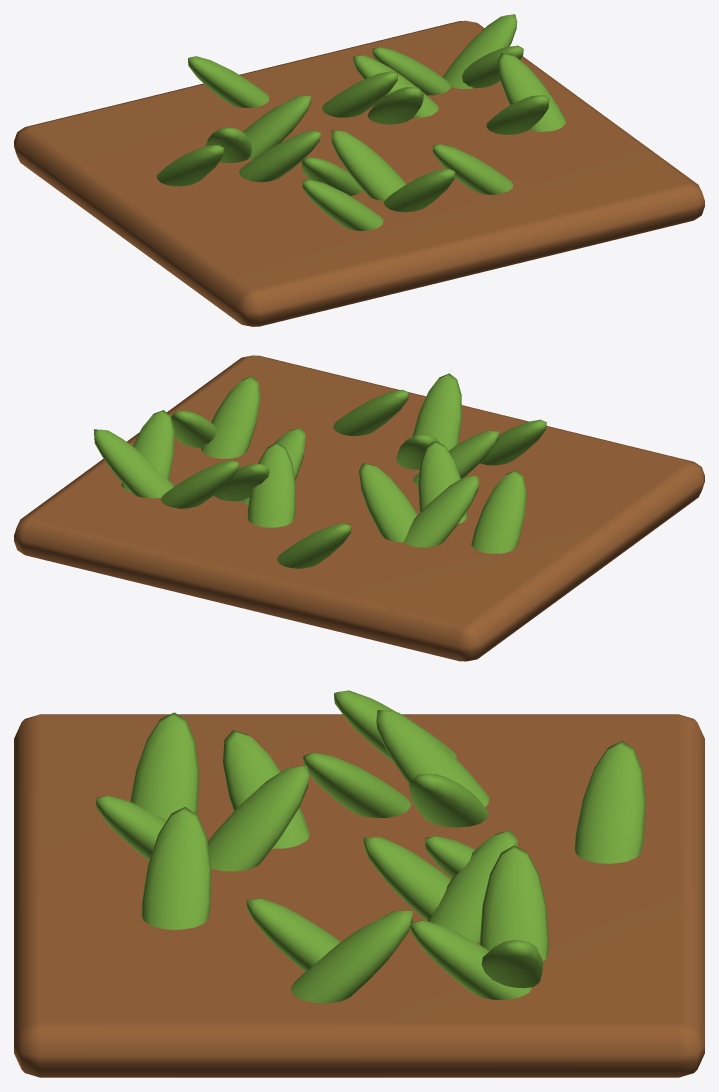
The model's file is NJD-19.glb.
The picture shows the model from 3 angles, top to bottom: view 1: azimuth 30°, elevation 25°; view 2: azimuth 150°, elevation 25°; view 3: azimuth 270°, elevation 25°; orthographic projection. The views are drawn at different scales.
Parts seen in each view (by area): view 1: garden bed, leaf.008, leaf.005, leaf.004, leaf.009, leaf.013, leaf.012, leaf, leaf.007, leaf.017, leaf.006, leaf.002 (+7 smaller); view 2: garden bed, leaf.002, leaf.017, leaf.003, leaf.016, leaf.012, leaf.007, leaf.006, leaf.014, leaf.009, leaf, leaf.011 (+7 smaller); view 3: garden bed, leaf, leaf.004, leaf.008, leaf.014, leaf.005, leaf.013, leaf.016, leaf.001, leaf.009, leaf.011, leaf.015 (+7 smaller).
Part boxes in pixels (x1=…): garden bed: x1=14, y1=20, x2=704, y2=326; leaf.008: x1=331, y1=130, x2=406, y2=200; leaf.005: x1=497, y1=53, x2=565, y2=131; leaf.004: x1=188, y1=56, x2=269, y2=107; leaf.009: x1=239, y1=130, x2=320, y2=182; leaf.013: x1=302, y1=179, x2=383, y2=230; leaf.012: x1=243, y1=95, x2=311, y2=159; leaf: x1=432, y1=144, x2=512, y2=194; leaf.007: x1=442, y1=14, x2=517, y2=88; leaf.017: x1=322, y1=71, x2=397, y2=117; leaf.006: x1=383, y1=168, x2=455, y2=212; leaf.002: x1=157, y1=144, x2=224, y2=186; garden bed: x1=14, y1=355, x2=704, y2=661; leaf.002: x1=471, y1=470, x2=526, y2=553; leaf.017: x1=247, y1=442, x2=295, y2=527; leaf.003: x1=201, y1=376, x2=260, y2=458; leaf.016: x1=403, y1=475, x2=478, y2=547; leaf.012: x1=359, y1=463, x2=417, y2=542; leaf.007: x1=93, y1=429, x2=174, y2=498; leaf.006: x1=412, y1=373, x2=461, y2=450; leaf.014: x1=161, y1=460, x2=239, y2=508; leaf.009: x1=418, y1=441, x2=467, y2=523; leaf: x1=333, y1=389, x2=408, y2=435; leaf.011: x1=121, y1=410, x2=174, y2=491; garden bed: x1=14, y1=714, x2=704, y2=1077; leaf: x1=141, y1=807, x2=211, y2=929; leaf.004: x1=574, y1=741, x2=645, y2=863; leaf.008: x1=207, y1=765, x2=308, y2=871; leaf.014: x1=480, y1=845, x2=548, y2=961; leaf.005: x1=290, y1=911, x2=413, y2=1003; leaf.013: x1=130, y1=712, x2=199, y2=820; leaf.016: x1=376, y1=710, x2=489, y2=806; leaf.001: x1=428, y1=830, x2=517, y2=942; leaf.009: x1=303, y1=752, x2=411, y2=817; leaf.011: x1=410, y1=920, x2=531, y2=999; leaf.015: x1=363, y1=837, x2=450, y2=920.
Size of the model in its own units: 1.8 by 0.3269 by 1.6.
